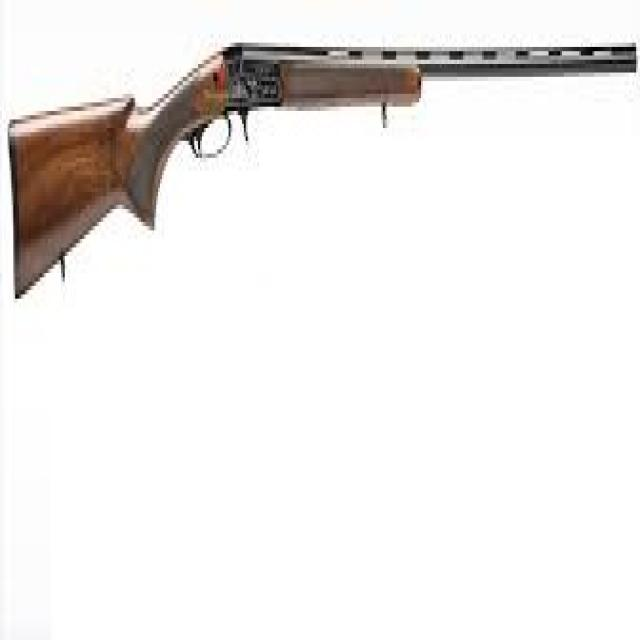rifle: (5, 25, 640, 306)
